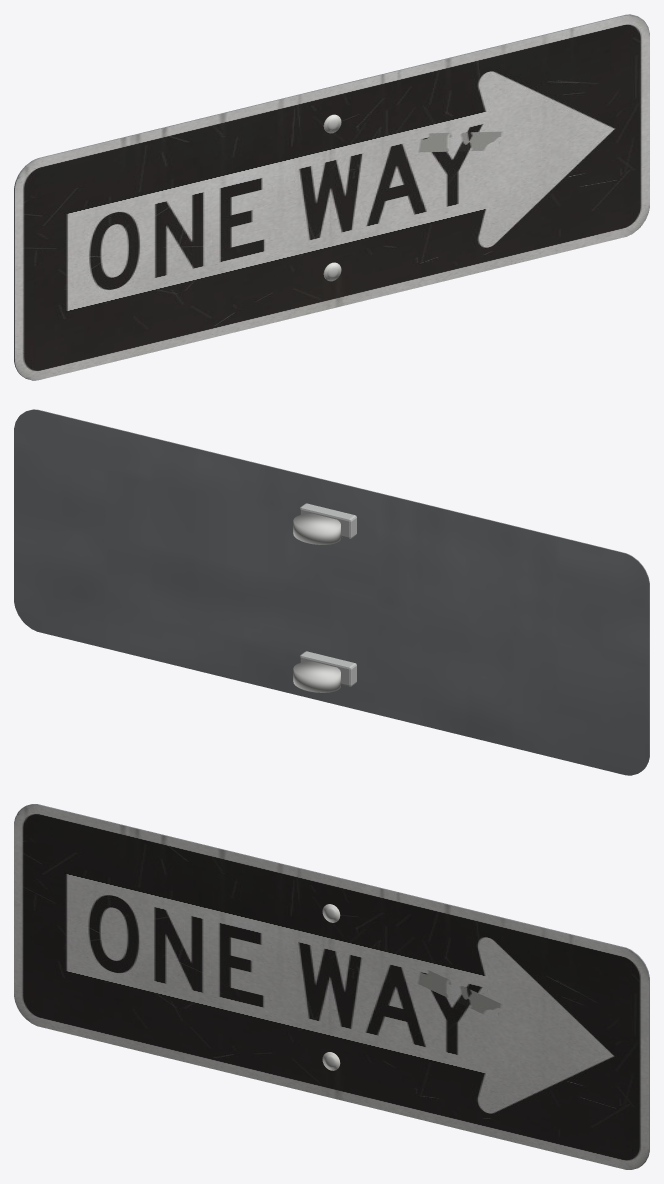
File: oneWayRight-v1.glb
3 views of the same model, one above another, from view 1: azimuth 30°, elevation 25°; view 2: azimuth 150°, elevation 25°; view 3: azimuth 330°, elevation 25° (orthographic).
Parts seen in each view (by area): view 1: oneWayRight-v1; view 2: oneWayRight-v1; view 3: oneWayRight-v1.
Boxes of the visible parts, left/top/right/bottom form: oneWayRight-v1: left=14, top=14, right=649, bottom=380; oneWayRight-v1: left=14, top=409, right=649, bottom=775; oneWayRight-v1: left=14, top=804, right=649, bottom=1169.
Bounding box in the file's own units: 1.22 × 0.4066 × 0.0871.
1 material, 1 textured.
